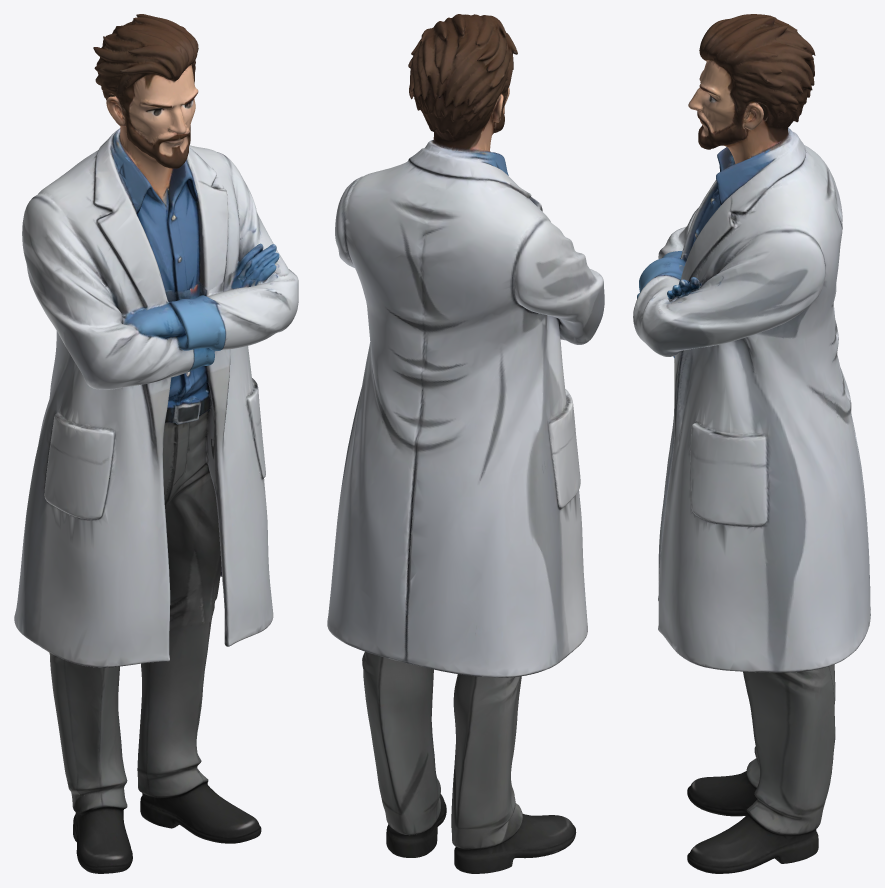
Rendered from researcher.glb.
3 views of the same model, side by side, from view 1: azimuth 30°, elevation 25°; view 2: azimuth 150°, elevation 25°; view 3: azimuth 270°, elevation 25° (orthographic).
Size of the model in its own units: 0.5399 by 1.9 by 0.501.
Materials: 1 (1 with a texture image).
